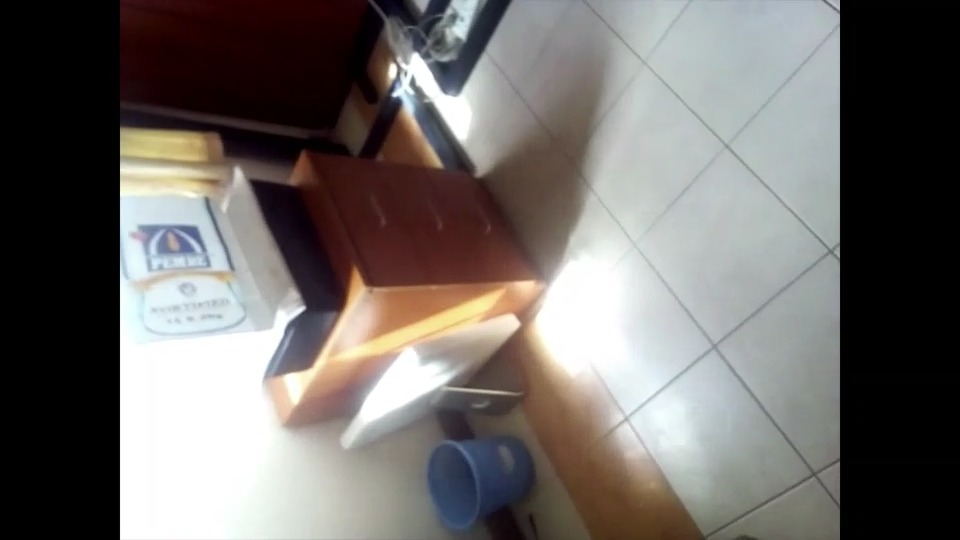wheat_flour_blue_label: (126, 195, 264, 340)
